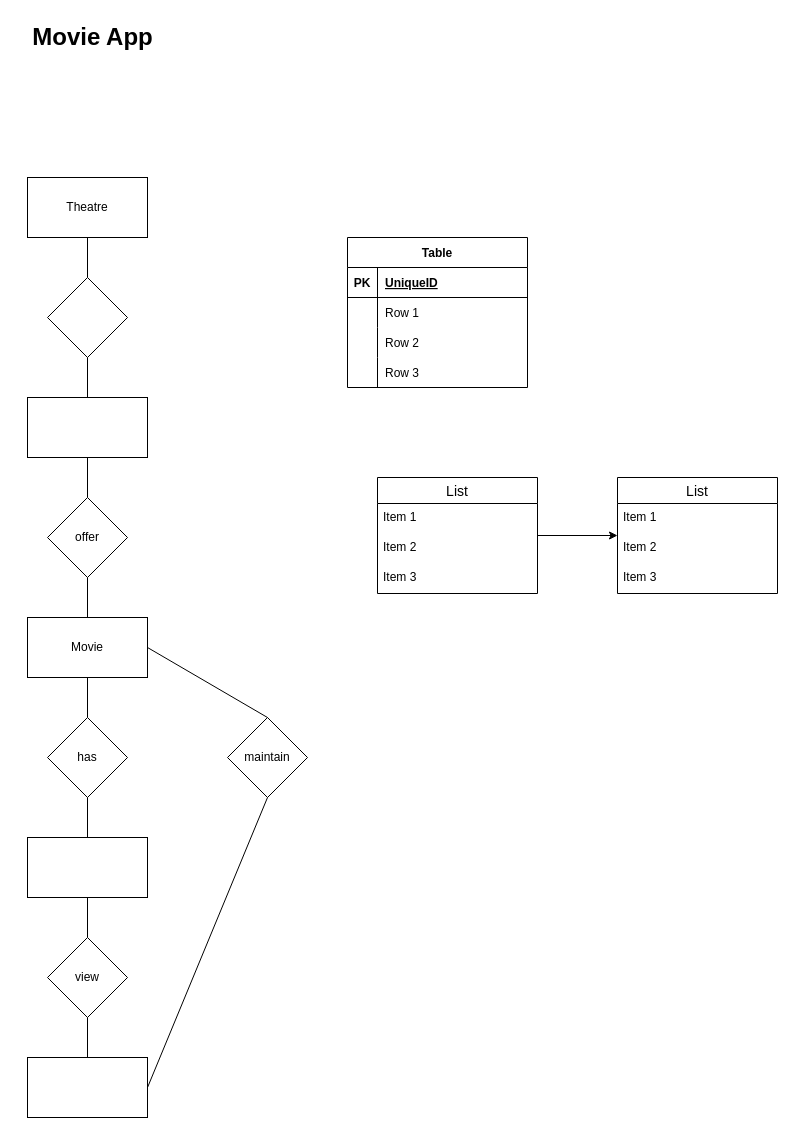
Image size: 795x1135. Some labels were removed from this diagram. The shapes that lost their labels are listed below. From the top down, each one's centre as x and y in pixels, then its label:
(x=87, y=317): input
(x=87, y=427): Outlets
(x=87, y=867): Showtime
(x=87, y=1087): Customer
